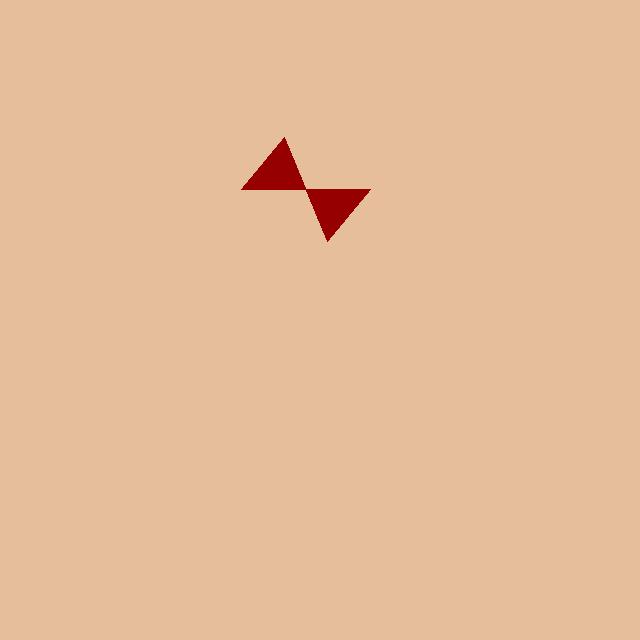laceration: (241, 137, 370, 241)
